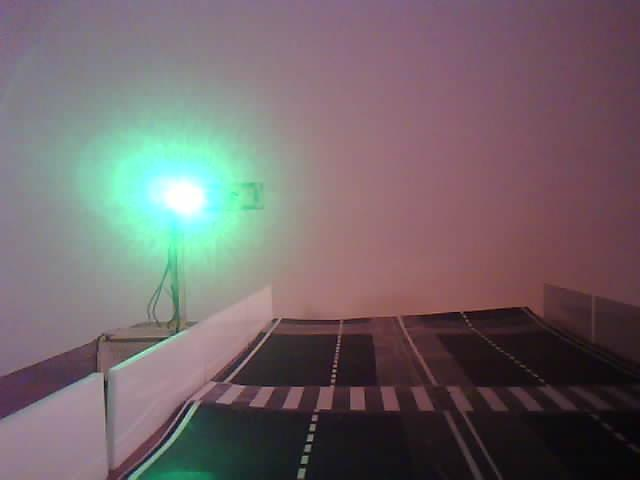crosswalk: (203, 371, 640, 418)
green: (113, 161, 272, 329)
